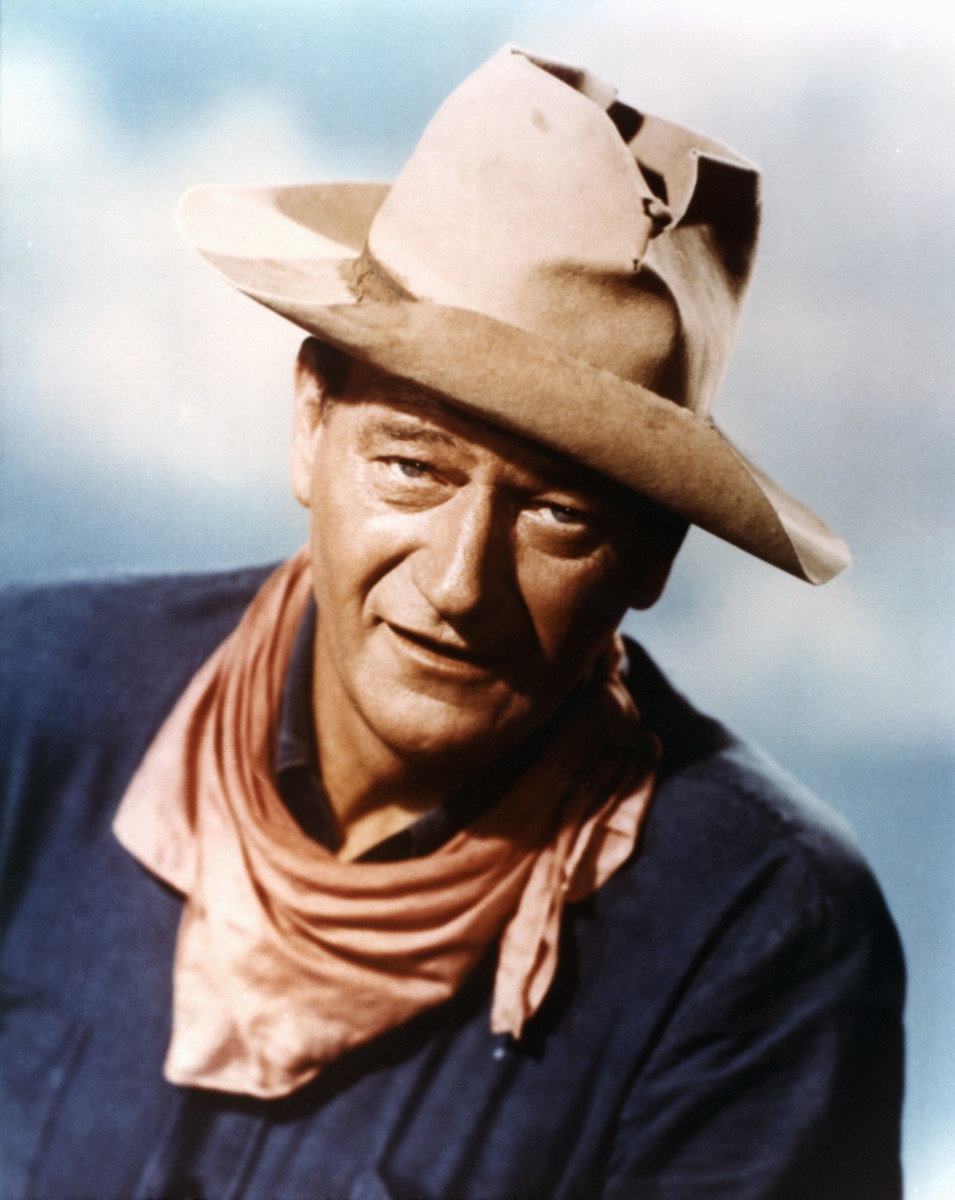bad: (247, 376, 632, 761)
